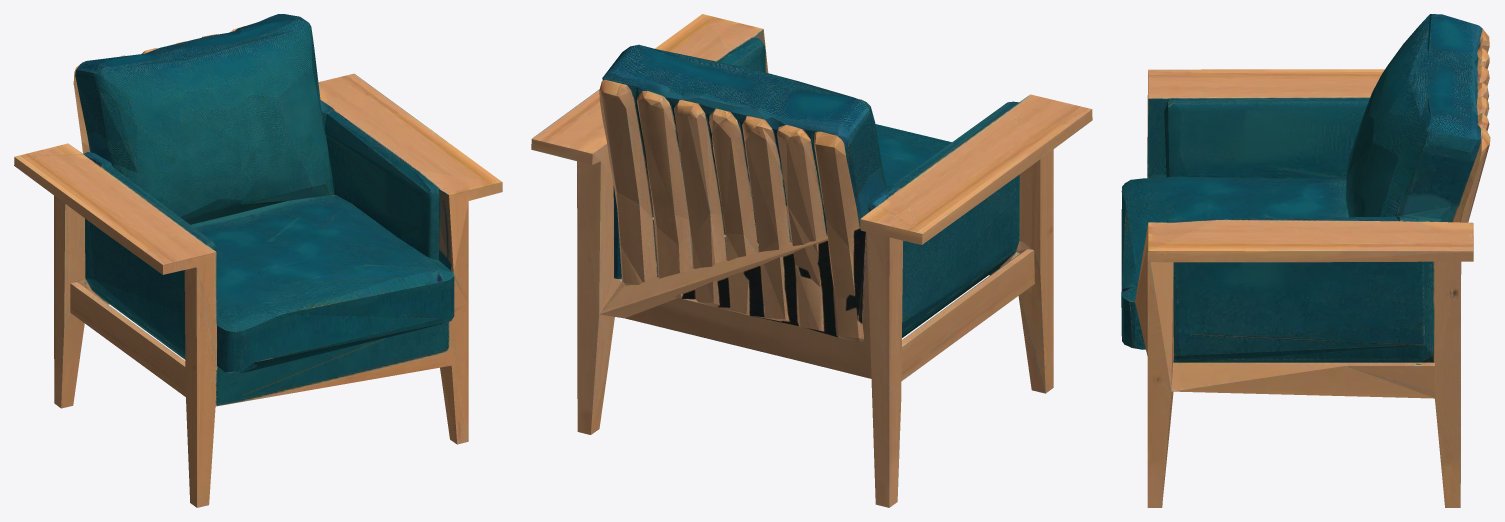
Rendered from visitor_chair.glb.
3 renders of one model, left to right at view 1: azimuth 30°, elevation 25°; view 2: azimuth 150°, elevation 25°; view 3: azimuth 270°, elevation 25°, orthographic. The views are drawn at different scales.
Bounding box in the file's own units: 1.9 × 1.79 × 1.63.
1 material, 1 textured.
